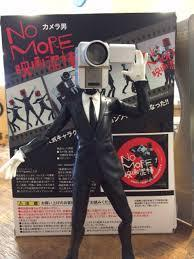no more kid: (74, 36, 138, 102)
